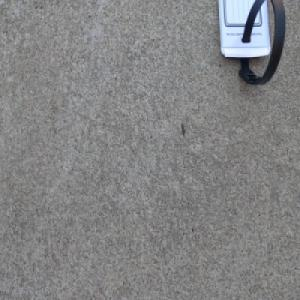LuggageTag: (216, 0, 287, 88)
